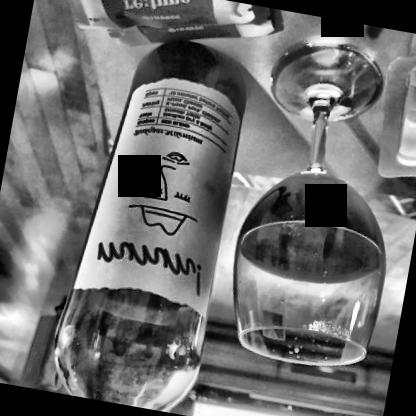umm: (75, 66, 247, 314)
